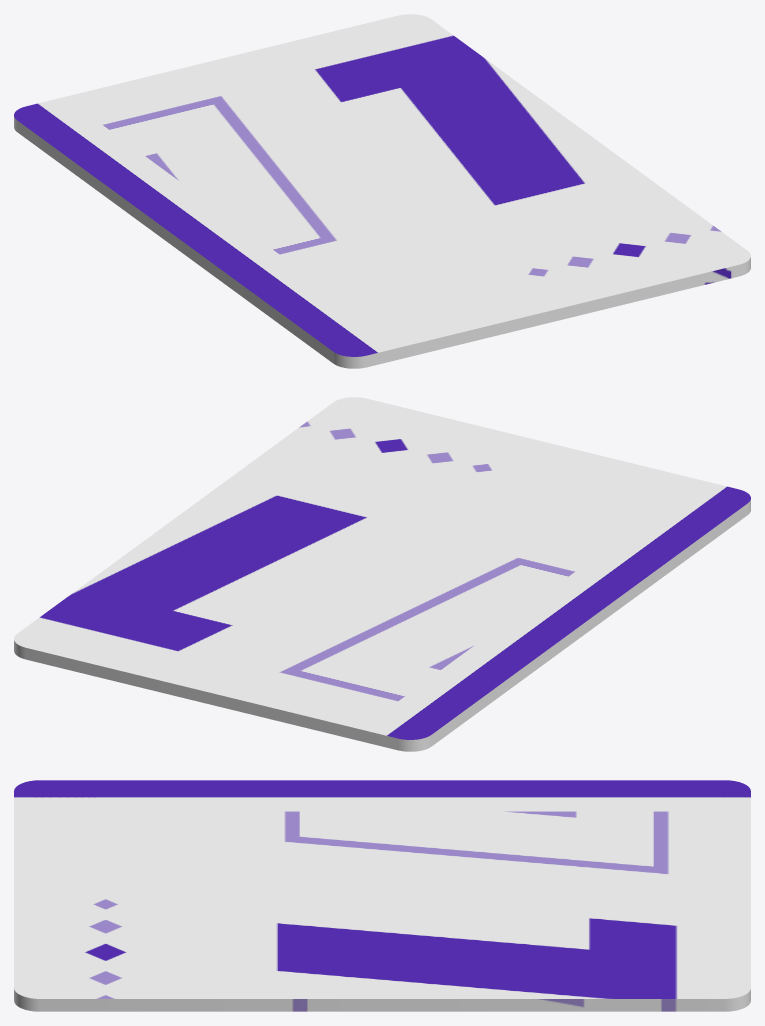
Rendered from rumorcard.fbx.
3 views of the same model, one above another, from view 1: azimuth 30°, elevation 25°; view 2: azimuth 150°, elevation 25°; view 3: azimuth 270°, elevation 25° (orthographic). The views are drawn at different scales.
Parts seen in each view (by area): view 1: Cube; view 2: Cube; view 3: Cube.
Part boxes in pixels (x1,y1,x2,y2): Cube: (14,14,750,368); Cube: (14,397,750,751); Cube: (14,780,750,1011).
Bounding box in the file's own units: 336 × 9.17 × 479.
